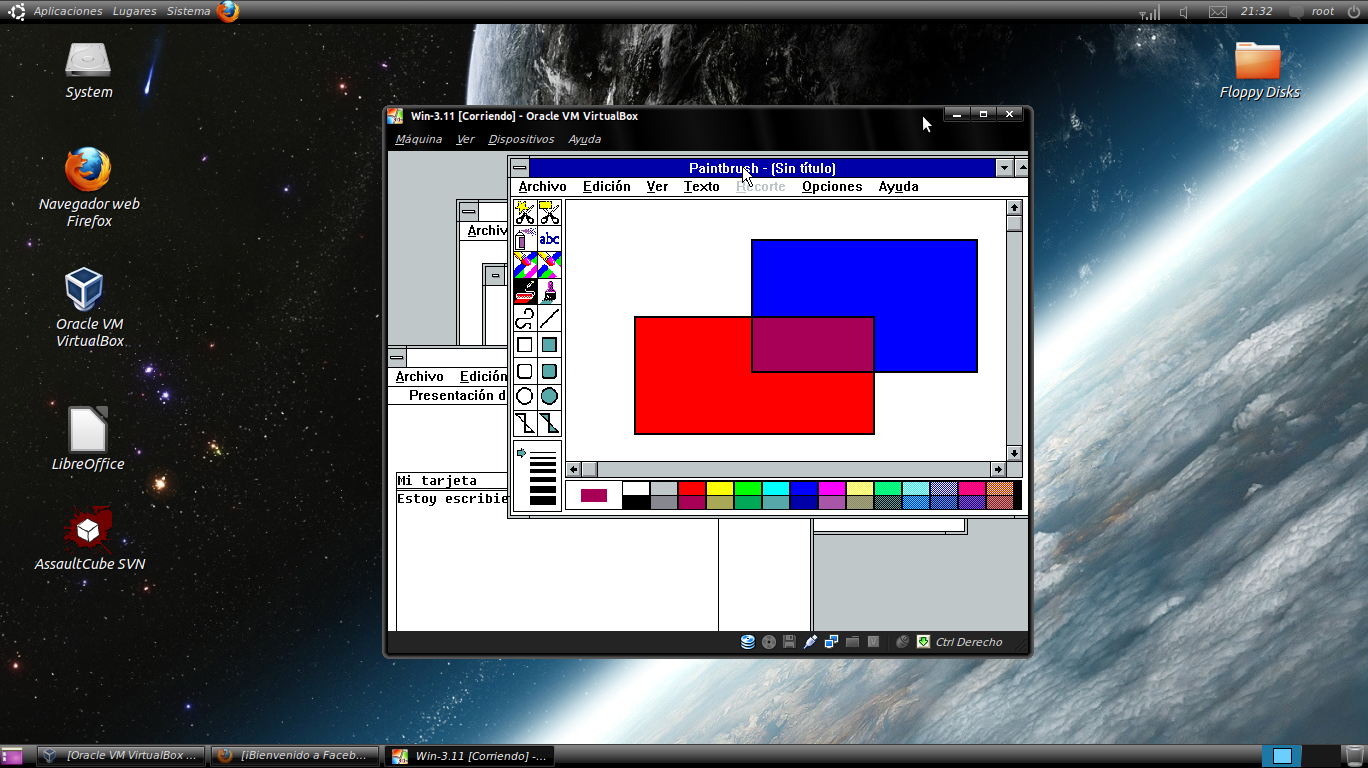button: (36, 142, 140, 229), (32, 501, 145, 574), (54, 264, 125, 349), (49, 400, 125, 475), (1218, 40, 1302, 104), (384, 744, 553, 768), (211, 745, 381, 768), (36, 745, 206, 767), (513, 440, 561, 511), (62, 39, 116, 102), (564, 479, 621, 509), (486, 131, 555, 146), (31, 4, 103, 18), (800, 178, 863, 194), (1262, 744, 1301, 768), (1302, 744, 1339, 768), (733, 178, 787, 194), (516, 178, 567, 194), (581, 178, 631, 194), (394, 369, 444, 385), (393, 131, 443, 146), (464, 223, 508, 239), (110, 4, 158, 18), (877, 178, 919, 194), (459, 369, 507, 383), (681, 178, 721, 194), (166, 4, 211, 18), (513, 199, 537, 225), (537, 199, 561, 225), (537, 225, 561, 251), (513, 225, 537, 251), (513, 251, 537, 277), (537, 251, 561, 277), (513, 277, 537, 303), (537, 277, 561, 303), (537, 304, 561, 330), (513, 304, 537, 330), (513, 331, 537, 357), (537, 331, 561, 357), (513, 357, 537, 383), (537, 357, 561, 383), (513, 384, 537, 410), (537, 384, 561, 410), (537, 410, 561, 436), (513, 410, 537, 436), (1341, 745, 1368, 768), (565, 131, 603, 146), (215, 1, 240, 23), (455, 199, 479, 221), (1239, 4, 1274, 18), (483, 265, 506, 286), (1, 746, 23, 767), (507, 156, 529, 177), (387, 346, 407, 368), (7, 1, 27, 22), (644, 178, 670, 194), (1139, 2, 1161, 20), (994, 158, 1014, 177), (943, 106, 970, 120), (622, 480, 649, 494), (650, 480, 677, 494), (622, 495, 649, 509), (650, 495, 677, 509), (678, 495, 705, 509), (678, 480, 705, 494), (706, 480, 733, 494), (706, 495, 733, 509), (734, 480, 761, 494), (734, 495, 761, 509), (762, 495, 789, 509), (762, 480, 789, 494), (790, 480, 817, 494), (790, 495, 817, 509), (818, 495, 845, 509), (818, 480, 845, 494), (846, 480, 873, 494), (846, 494, 873, 508), (874, 494, 901, 508), (874, 480, 901, 494), (902, 480, 929, 494), (902, 495, 929, 509), (930, 495, 957, 509), (930, 480, 957, 494), (958, 480, 985, 494), (958, 495, 985, 509), (986, 495, 1013, 509), (986, 480, 1013, 494), (996, 106, 1022, 120), (971, 106, 995, 120), (454, 131, 476, 146), (1287, 4, 1305, 21), (1346, 2, 1362, 20), (1007, 215, 1023, 232), (1007, 445, 1023, 462), (1207, 4, 1226, 18), (387, 108, 403, 124), (1007, 200, 1023, 216), (582, 461, 598, 477), (566, 462, 582, 477), (990, 462, 1006, 477), (1015, 158, 1027, 177), (1012, 637, 1027, 652), (1177, 4, 1190, 19)
common: (409, 388, 507, 403), (935, 636, 1004, 648), (1309, 6, 1336, 18)
container: (1, 24, 1368, 744), (382, 105, 1035, 660), (388, 151, 1028, 632), (508, 155, 1028, 519), (454, 199, 968, 534), (566, 199, 1023, 477), (387, 345, 813, 630), (388, 404, 810, 631), (1, 744, 1368, 768), (1, 1, 1368, 23), (513, 200, 563, 512), (382, 105, 1033, 127), (564, 480, 1023, 511), (388, 633, 1028, 653), (507, 155, 1027, 177), (510, 177, 1028, 196), (566, 461, 1006, 477), (389, 129, 609, 150), (1007, 200, 1023, 462), (387, 345, 507, 369), (387, 368, 506, 387), (388, 387, 507, 404), (483, 264, 507, 345), (454, 199, 508, 222), (455, 222, 507, 239)
header: (410, 110, 640, 123), (687, 160, 837, 176)
image: (567, 200, 1007, 462), (739, 634, 756, 651), (762, 634, 777, 651), (782, 634, 797, 650), (803, 634, 818, 650), (825, 634, 840, 650), (846, 634, 861, 650), (866, 634, 881, 650), (896, 633, 911, 649), (917, 633, 932, 649)
text-input: (396, 491, 720, 630), (395, 471, 507, 490)
